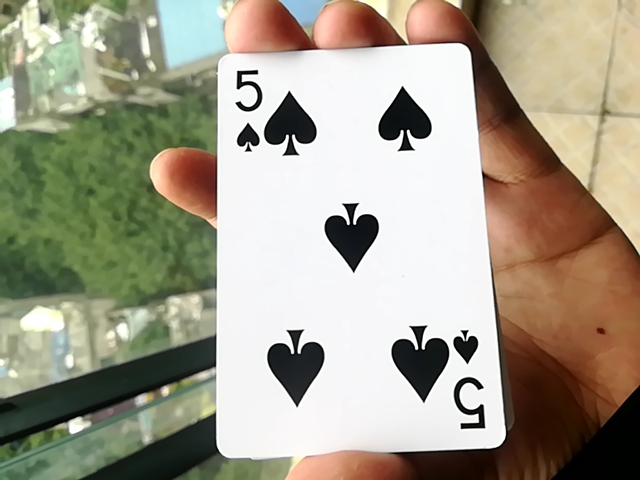ht 5: (199, 34, 506, 455)
